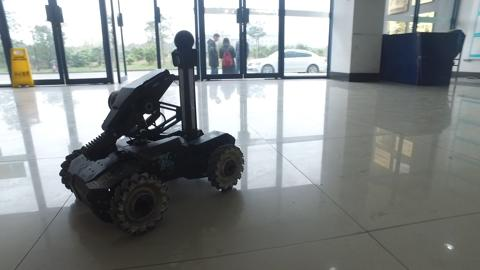chariot: (54, 27, 276, 238)
